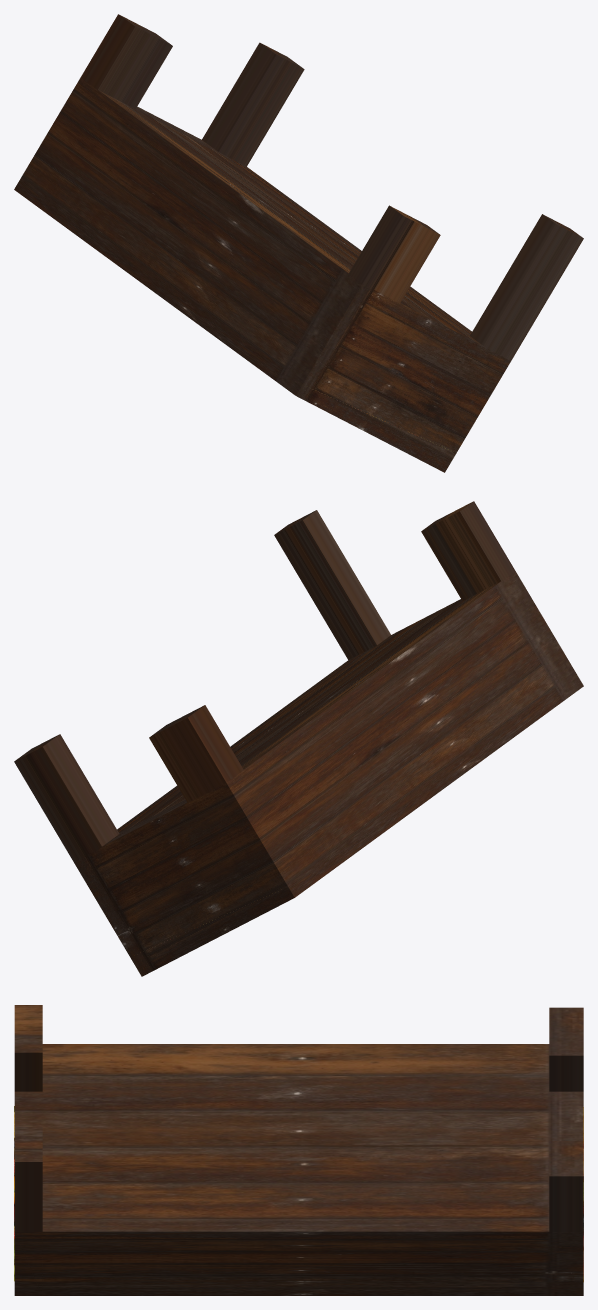
Rendered from caja-frutas.glb.
3 views of the same model, one above another, from view 1: azimuth 30°, elevation 25°; view 2: azimuth 150°, elevation 25°; view 3: azimuth 270°, elevation 25° (orthographic). The views are drawn at different scales.
Visible parts, largest first — view 1: Cube; view 2: Cube; view 3: Cube.
Boxes of the visible parts, x1,y1,x2,y2 form: Cube: [14, 14, 583, 472]; Cube: [14, 501, 583, 976]; Cube: [14, 1005, 583, 1295].
Size of the model in its own units: 3.43 by 3.04 by 5.82.
Materials: 2 (2 with a texture image).
